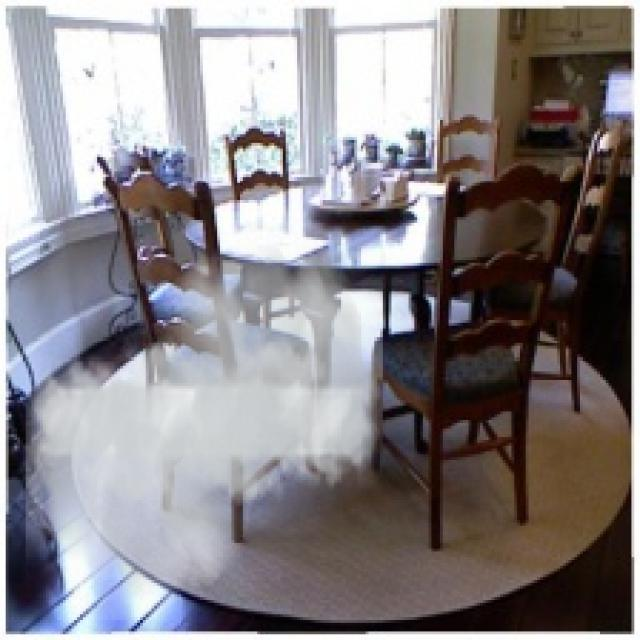Smoke: (26, 223, 383, 620)
